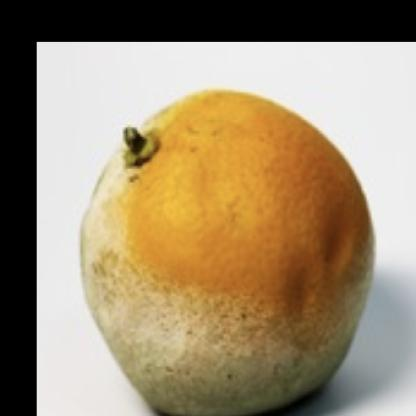rotten: (82, 89, 375, 416)
